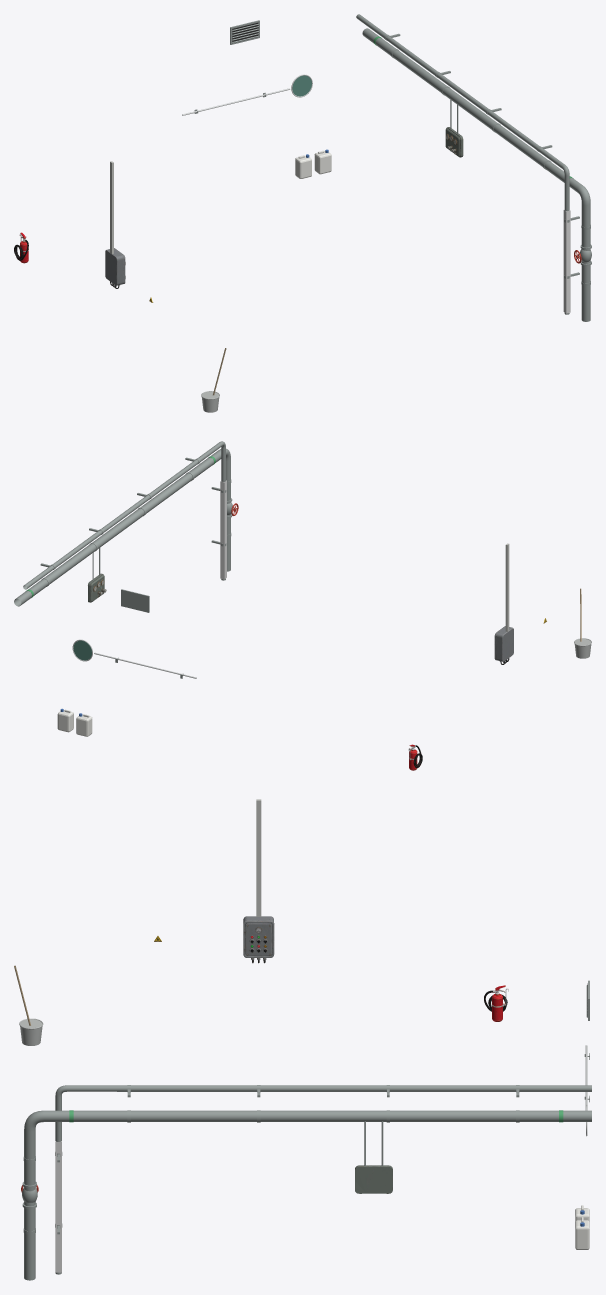
File: stanza_pozze.gltf
3 renders of one model, top to bottom at view 1: azimuth 30°, elevation 25°; view 2: azimuth 150°, elevation 25°; view 3: azimuth 270°, elevation 25°, orthographic. The views are drawn at different scales.
Visible parts, largest first — view 1: collettore_0, collettore_1, collettore_giu_col-convcolonly.001, quadro_elettrico, retino, griglia_aria; view 2: collettore_0, collettore_1, collettore_giu_col-convcolonly.001, quadro_elettrico, retino, griglia_aria, canalina_quadro; view 3: collettore_0, collettore_1, quadro_elettrico, pannello_manometri, collettore_giu_col-convcolonly.001, canalina_quadro.
Part boxes in pixels (x1,y1,x2,y2): collettore_0: (362,28,591,321); collettore_1: (356,14,579,314); collettore_giu_col-convcolonly.001: (563,209,570,313); quadro_elettrico: (105,248,125,288); retino: (182,74,312,115); griglia_aria: (230,20,259,44); collettore_0: (14,448,238,606); collettore_1: (23,441,226,589); collettore_giu_col-convcolonly.001: (220,480,226,579); quadro_elettrico: (494,626,513,664); retino: (72,639,196,678); griglia_aria: (121,589,149,612); canalina_quadro: (505,543,509,631); collettore_0: (21,1110,591,1280); collettore_1: (55,1085,591,1274); quadro_elettrico: (243,916,274,963); pannello_manometri: (355,1165,392,1193); collettore_giu_col-convcolonly.001: (55,1141,61,1272); canalina_quadro: (256,799,261,916).
Size of what is drawn, in the model's own units: 8.01 by 3.65 by 8.03.
16 materials, 4 textured.
